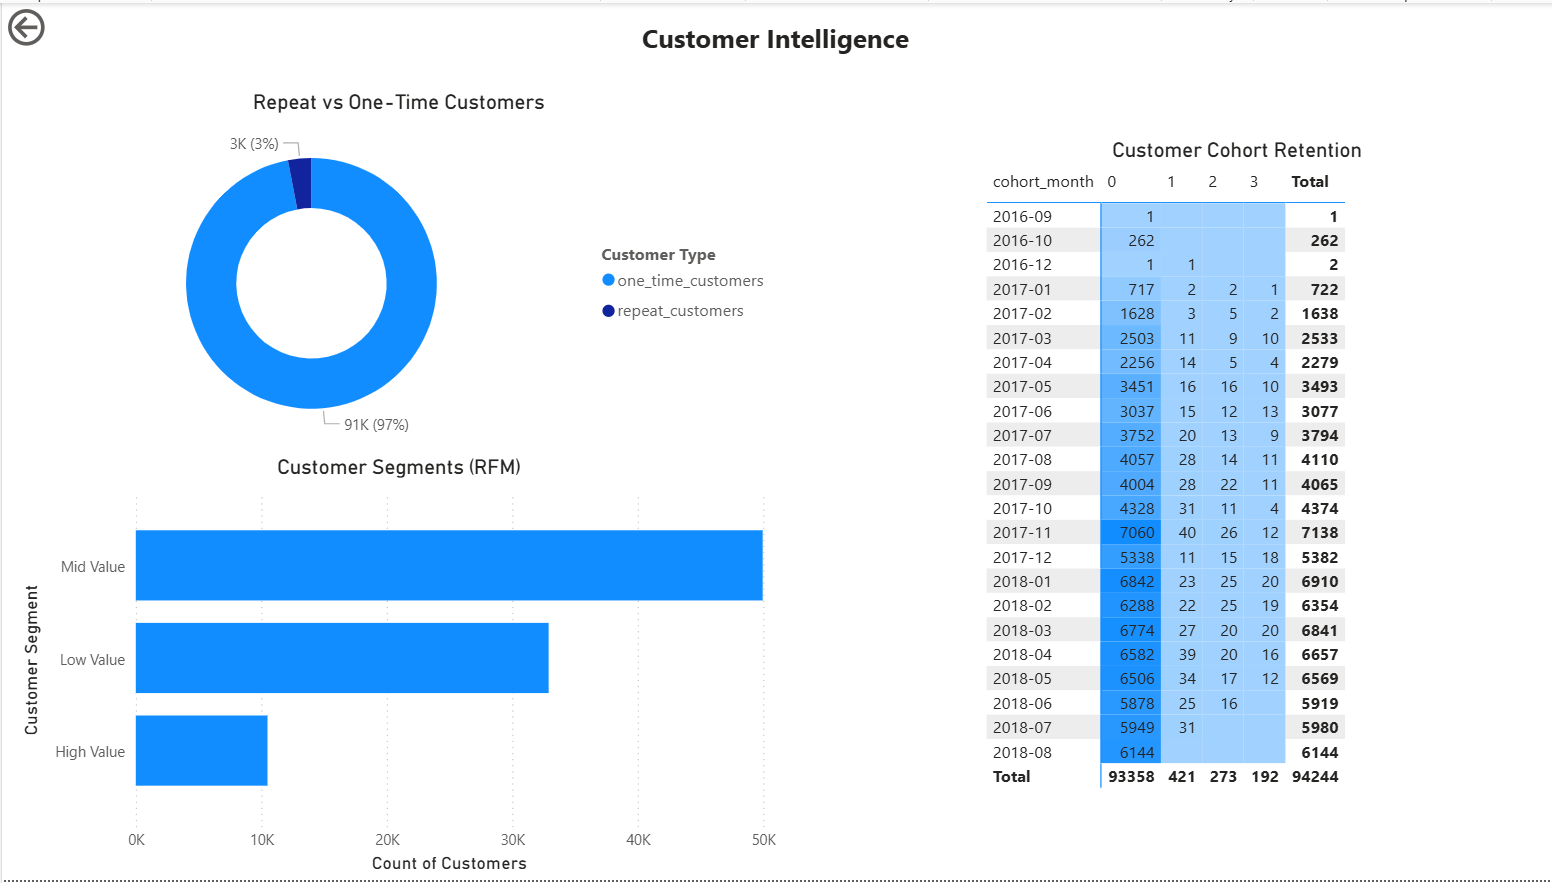

This screenshot's page, from the dashboard's own definition file:
{"tool":"powerbi","page":{"name":"Customer Intelligence","canvas":[1280,720],"ordinal":2},"visuals":[{"type":"donutChart","title":" Repeat vs One-Time Customers ","fields":{"Category":["repeat_purchase_rate.customer_type"],"Y":["Sum(repeat_purchase_rate.customer_count)"]},"box":[11.6,70.9,629.1,300],"z":0},{"type":"clusteredBarChart","title":"Customer Segments (RFM)","fields":{"Category":["rfm_segmentation.customer_segment"],"Y":["CountNonNull(rfm_segmentation.customer_unique_id)"]},"box":[11.6,370.9,629.1,348.8],"z":1000},{"type":"pivotTable","title":"Customer Cohort Retention","fields":{"Rows":["cohort_retention.cohort_month"],"Columns":["cohort_retention.months_since_first_order"],"Values":["Sum(cohort_retention.customers)"]},"box":[803.5,110.5,420.9,609.3],"z":2000},{"type":"actionButton","box":[0,0,100,40],"z":3000},{"type":"textbox","box":[141.9,9.3,987.2,50],"z":3001}]}

Visuals, with their boxes in screenshot pixels (x1, y1, x2, y2), scaled from the page's 1280x720 canvas onto the 1552x883 screenshot:
" Repeat vs One-Time Customers " donutChart: Rect(14, 87, 777, 455)
"Customer Segments (RFM)" clusteredBarChart: Rect(14, 455, 777, 882)
"Customer Cohort Retention" pivotTable: Rect(974, 136, 1485, 882)
actionButton: Rect(0, 0, 121, 49)
textbox: Rect(172, 11, 1369, 73)
